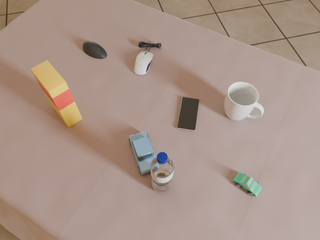bottle: (151, 152, 174, 193)
box: (31, 61, 82, 127)
cup: (224, 82, 264, 120)
mouse: (134, 52, 153, 75), (83, 41, 107, 59)
phone: (177, 97, 199, 131)
toy_car: (129, 132, 155, 174), (233, 173, 262, 197)
